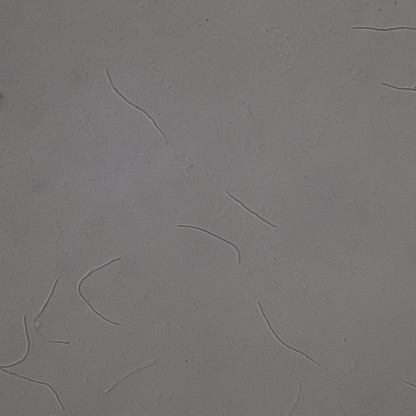Sensitive: (105, 68, 167, 143), (258, 303, 325, 367), (76, 256, 123, 325), (1, 368, 65, 410), (177, 224, 242, 262), (33, 278, 70, 344), (226, 191, 276, 226), (105, 360, 155, 393), (1, 315, 30, 370), (352, 24, 416, 32), (286, 383, 300, 416), (381, 82, 416, 93)
